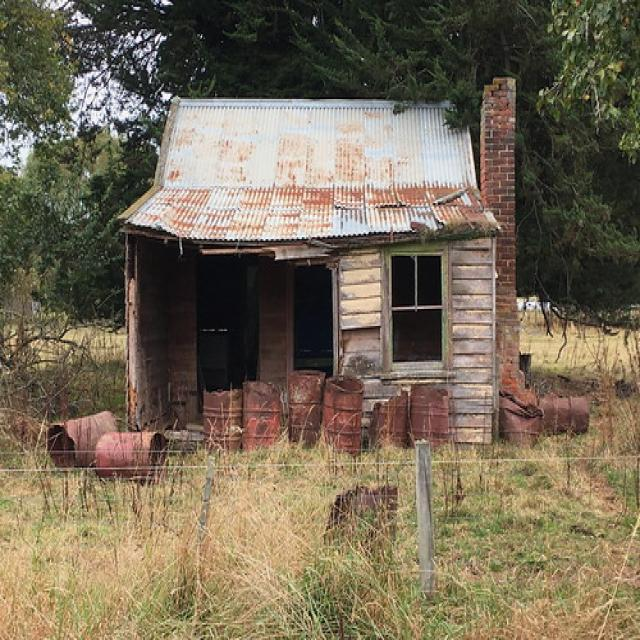Normal_building: (112, 79, 518, 452)
